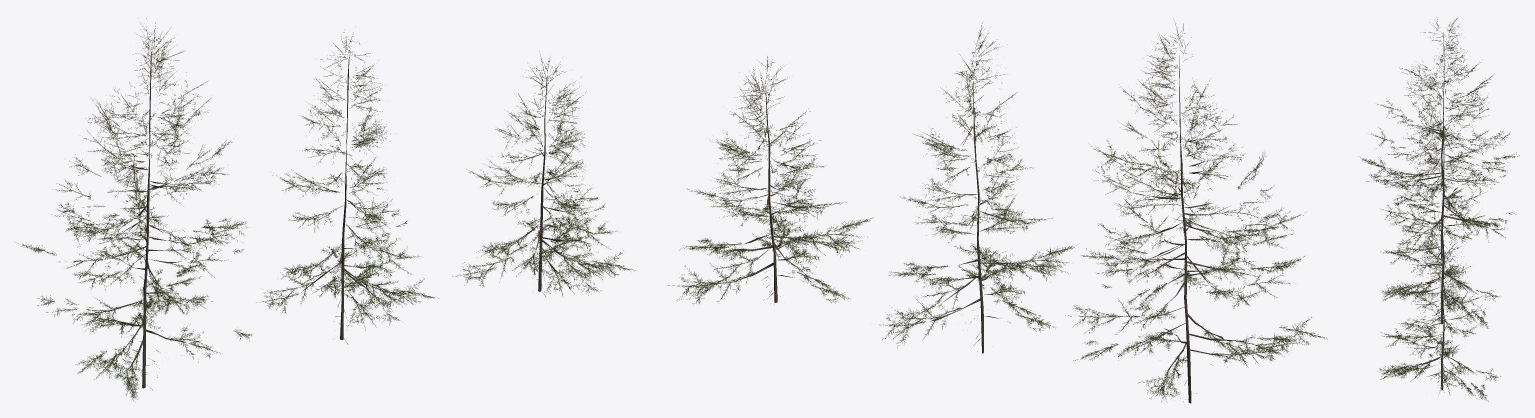
Rendered from fir_young.glb.
3 views of the same model, side by side, from view 1: azimuth 30°, elevation 25°; view 2: azimuth 150°, elevation 25°; view 3: azimuth 270°, elevation 25° (orthographic). The views are drawn at different scales.
Parts seen in each view (by area): view 1: fir_sapling_medium_a_LOD0, fir_sapling_medium_b_LOD0, fir_sapling_medium_c_LOD0; view 2: fir_sapling_medium_a_LOD0, fir_sapling_medium_b_LOD0, fir_sapling_medium_c_LOD0; view 3: fir_sapling_medium_a_LOD0, fir_sapling_medium_b_LOD0, fir_sapling_medium_c_LOD0.
Part boxes in pixels (x1,y1,x2,y2): fir_sapling_medium_a_LOD0: (15,18,251,402); fir_sapling_medium_b_LOD0: (256,32,439,344); fir_sapling_medium_c_LOD0: (452,54,635,297); fir_sapling_medium_a_LOD0: (1065,20,1327,403); fir_sapling_medium_b_LOD0: (879,23,1076,353); fir_sapling_medium_c_LOD0: (668,56,873,304); fir_sapling_medium_a_LOD0: (1360,16,1519,257); fir_sapling_medium_b_LOD0: (1380,112,1499,328); fir_sapling_medium_c_LOD0: (1379,226,1500,401).
Size of the model in its own units: 14.72 by 8.85 by 5.21.
Materials: 3 (3 with a texture image).
